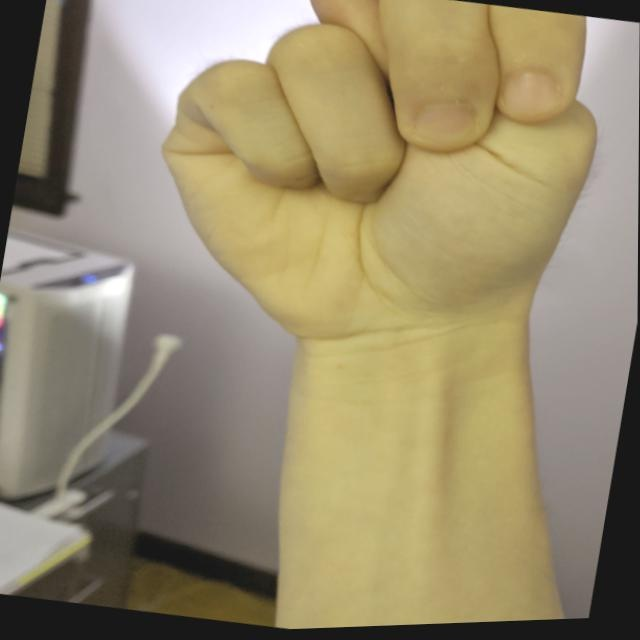N: (125, 0, 633, 399)
